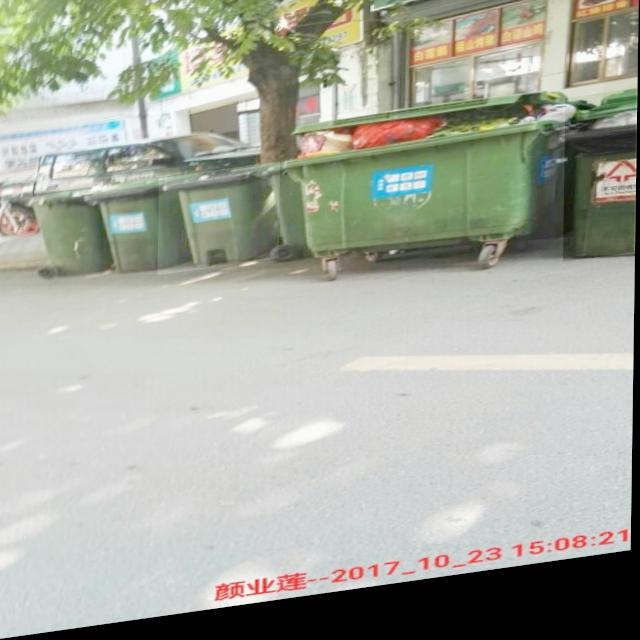garbage_bin: (159, 170, 281, 280), (85, 179, 196, 281), (25, 187, 111, 285)
overflow: (284, 101, 597, 270), (564, 107, 637, 279)
